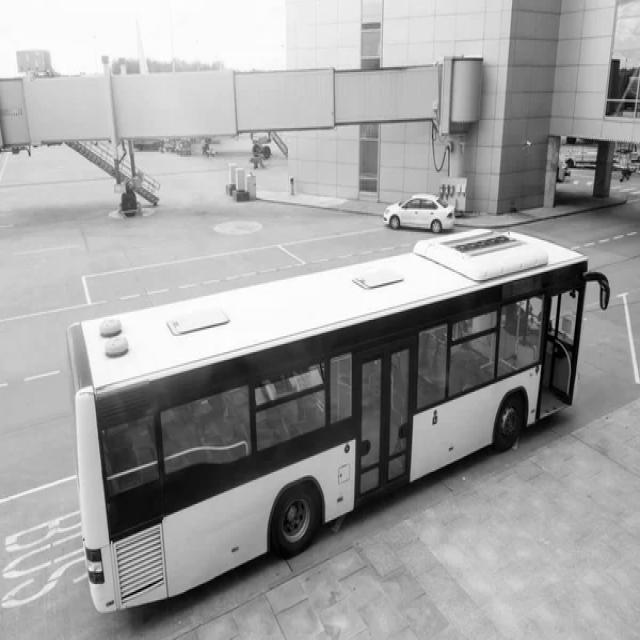Bus: (67, 228, 612, 614)
Car: (384, 194, 455, 231)
